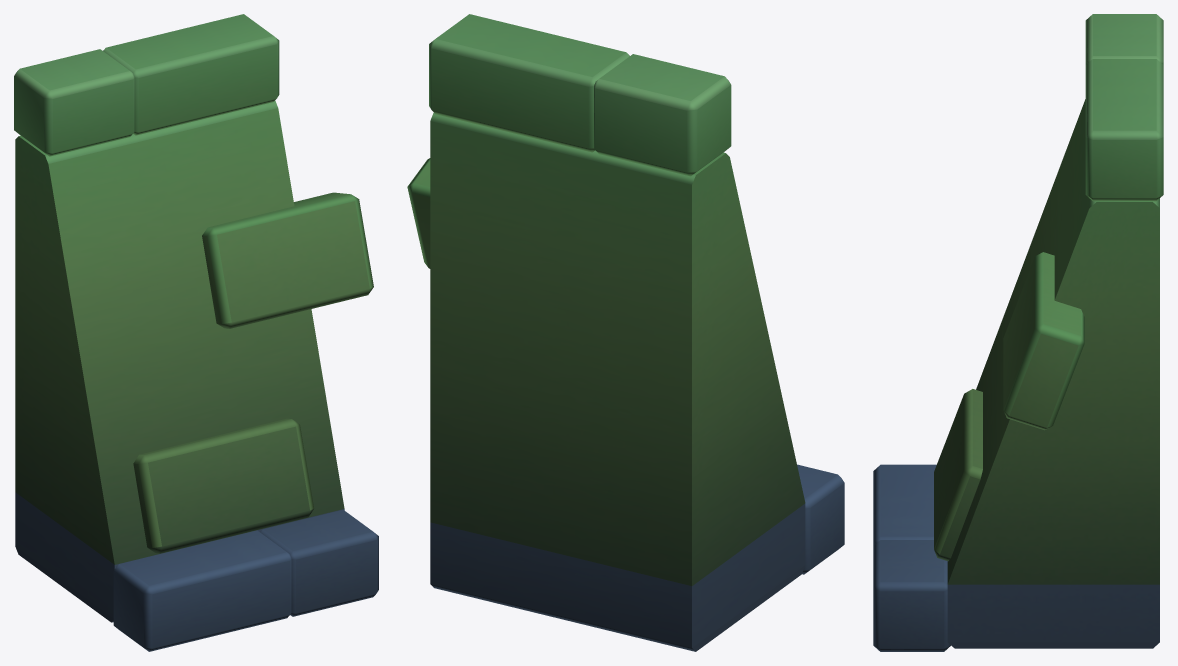
The model's file is wall_lower_straight_02.fbx.
3 views of the same model, side by side, from view 1: azimuth 30°, elevation 25°; view 2: azimuth 150°, elevation 25°; view 3: azimuth 270°, elevation 25° (orthographic). The views are drawn at different scales.
Parts seen in each view (by area): view 1: wall_lower_straight_02; view 2: wall_lower_straight_02; view 3: wall_lower_straight_02.
Boxes of the visible parts, x1,y1,x2,y2 form: wall_lower_straight_02: (14, 14, 378, 651); wall_lower_straight_02: (407, 14, 844, 651); wall_lower_straight_02: (873, 14, 1163, 651).
Bounding box in the file's own units: 253 × 406 × 205.
